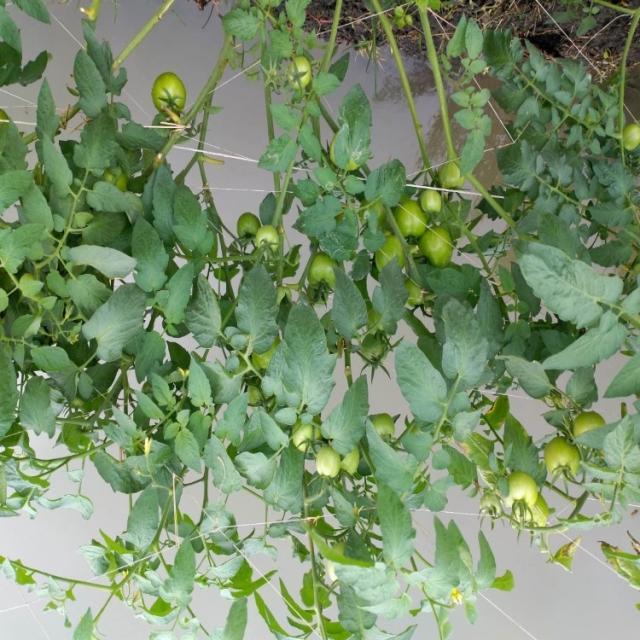tomato: (150, 63, 205, 130), (281, 39, 329, 99), (542, 430, 586, 489), (296, 239, 341, 295), (504, 471, 549, 527), (438, 150, 482, 206), (389, 190, 436, 240), (235, 195, 272, 250), (418, 222, 460, 268), (414, 169, 449, 222), (573, 398, 610, 443), (315, 442, 349, 489), (373, 230, 405, 278), (356, 334, 391, 373), (339, 444, 367, 484), (257, 222, 286, 259), (368, 405, 395, 442), (295, 416, 320, 454), (620, 119, 640, 165)
